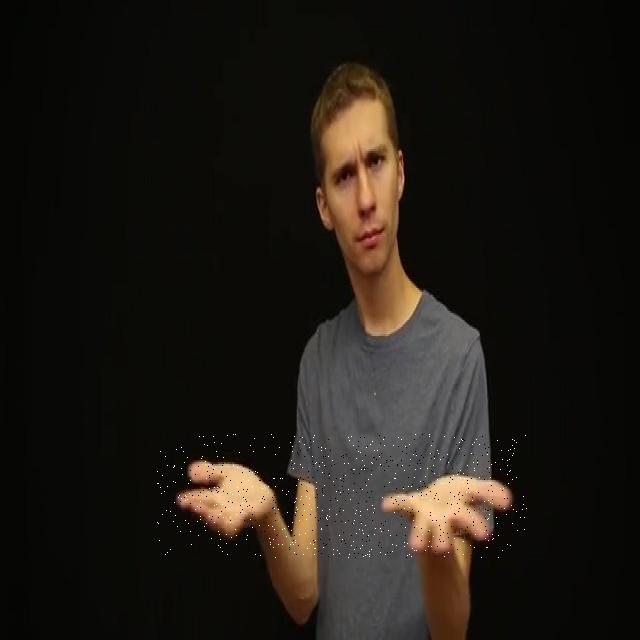what: (157, 434, 527, 558)
